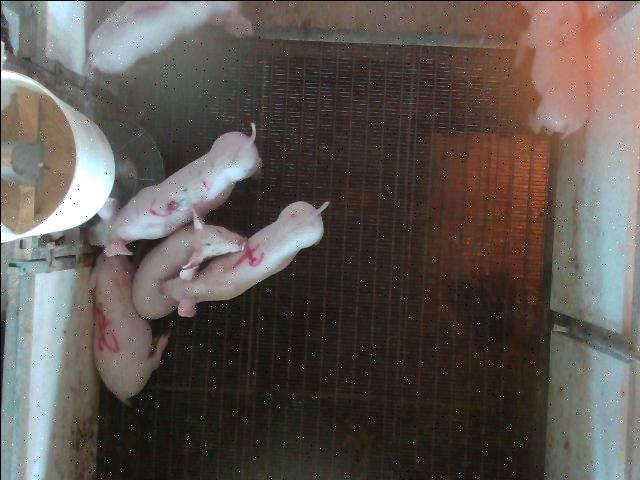pig-1: (88, 1, 234, 71)
pig-2: (522, 1, 586, 136)
pig-3: (88, 123, 260, 255)
pig-4: (161, 201, 328, 316)
pig-5: (89, 253, 169, 402)
